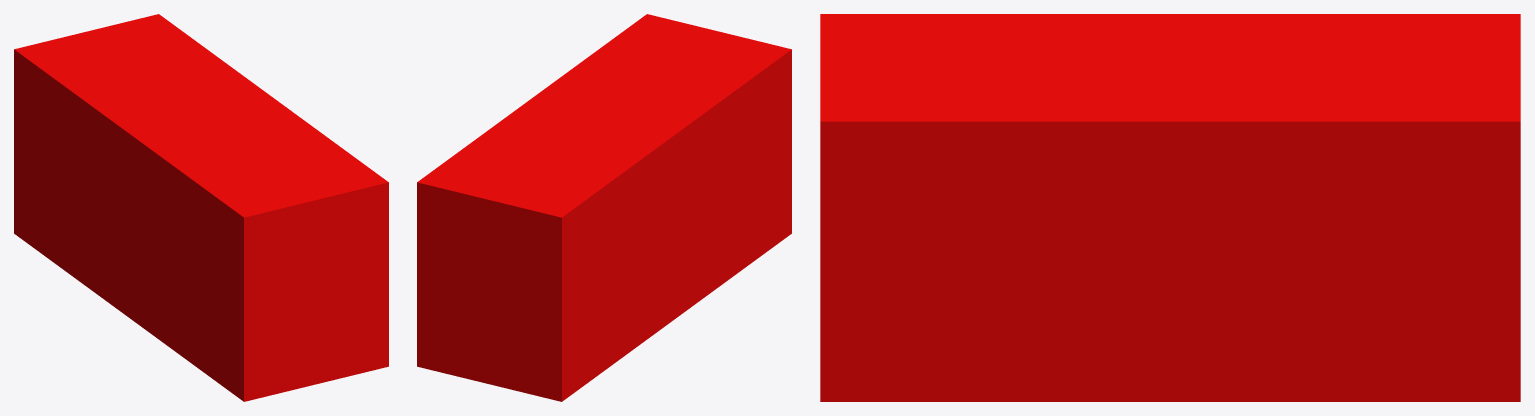
Rendered from arm_r_4distph_col.dae.
3 renders of one model, left to right at view 1: azimuth 30°, elevation 25°; view 2: azimuth 150°, elevation 25°; view 3: azimuth 270°, elevation 25°, orthographic. The views are drawn at different scales.
Parts seen in each view (by area): view 1: node0; view 2: node0; view 3: node0.
Boxes of the visible parts, x1,y1,x2,y2 form: node0: (14,14,388,401); node0: (417,14,791,401); node0: (820,14,1520,401).
Bounding box in the file's own units: 0.00617 × 0.0075 × 0.017.
